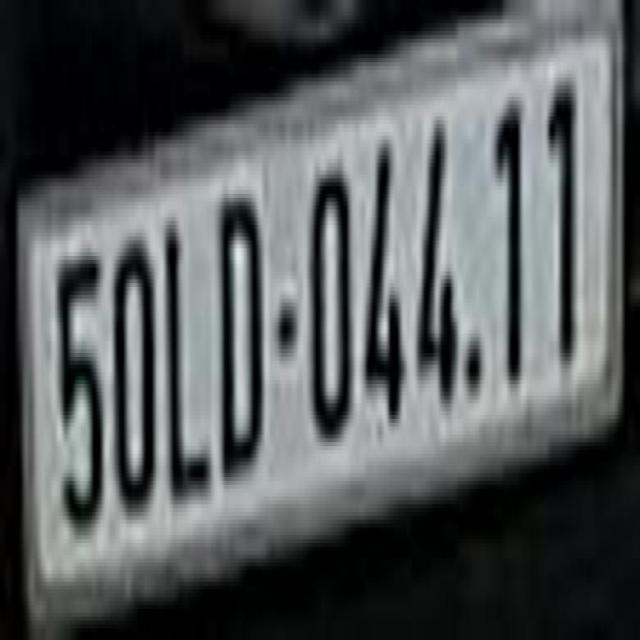0: (317, 163, 353, 450), (115, 248, 154, 493)
1: (496, 89, 526, 380), (554, 70, 580, 346)
4: (363, 144, 407, 426), (418, 116, 458, 404)
5: (54, 240, 104, 500)
D: (224, 190, 262, 473)
L: (164, 210, 213, 492)
